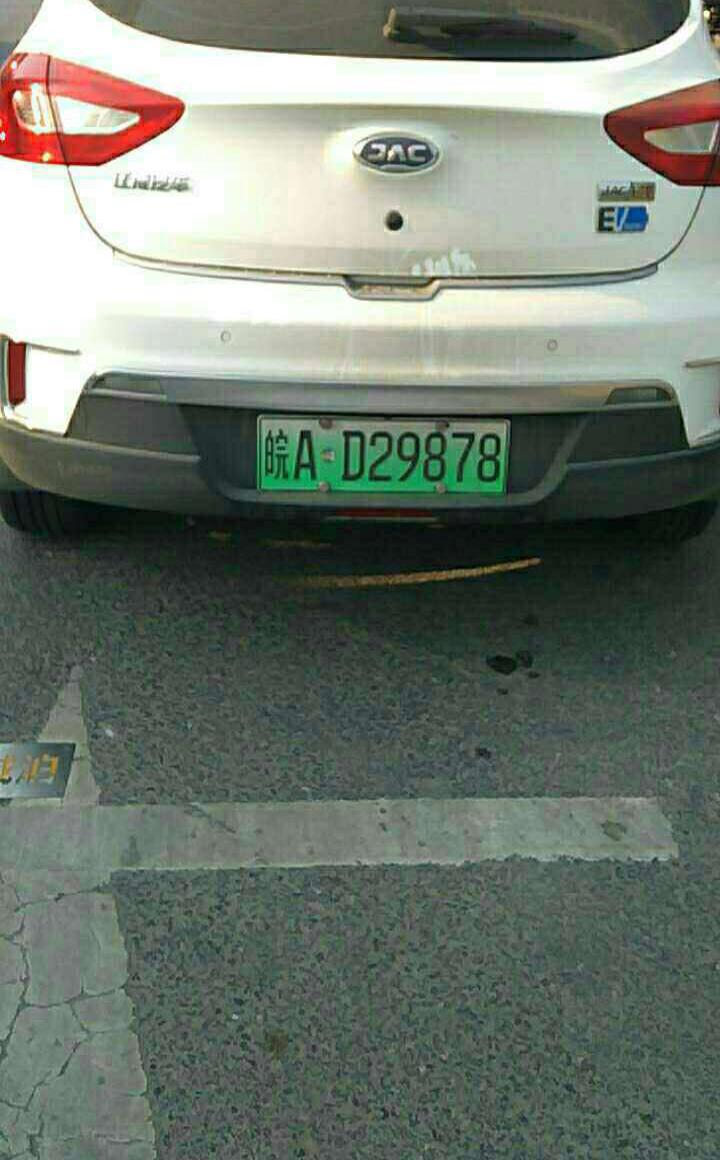car: (242, 414, 517, 496)
